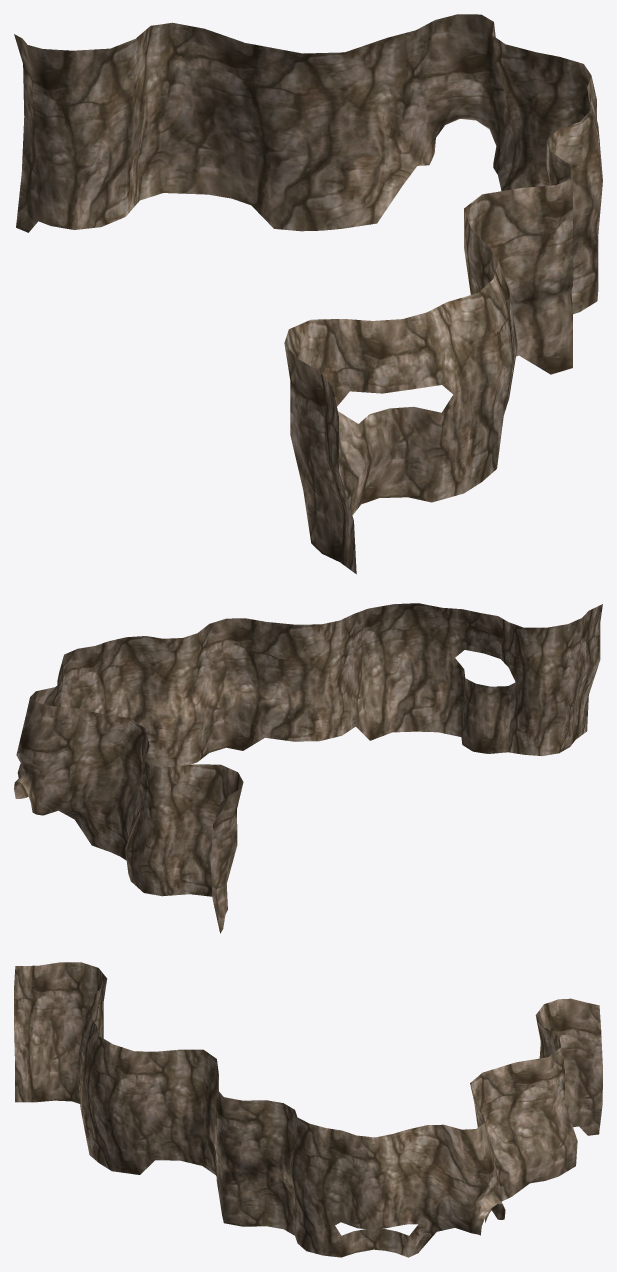
Rendered from EKH_CAVERNS_PS_CA_WALL_ENT3646.fbx.
3 views of the same model, one above another, from view 1: azimuth 30°, elevation 25°; view 2: azimuth 150°, elevation 25°; view 3: azimuth 270°, elevation 25° (orthographic). The views are drawn at different scales.
Parts seen in each view (by area): view 1: EKH_CAVERNS_PS_CA_WALL_ENT3646; view 2: EKH_CAVERNS_PS_CA_WALL_ENT3646; view 3: EKH_CAVERNS_PS_CA_WALL_ENT3646.
Part boxes in pixels (x1,y1,x2,y2): EKH_CAVERNS_PS_CA_WALL_ENT3646: (14, 14, 602, 574); EKH_CAVERNS_PS_CA_WALL_ENT3646: (14, 603, 602, 933); EKH_CAVERNS_PS_CA_WALL_ENT3646: (14, 962, 602, 1257).
Size of the model in its own units: 256668 by 93756 by 370503.
1 material, 1 textured.
